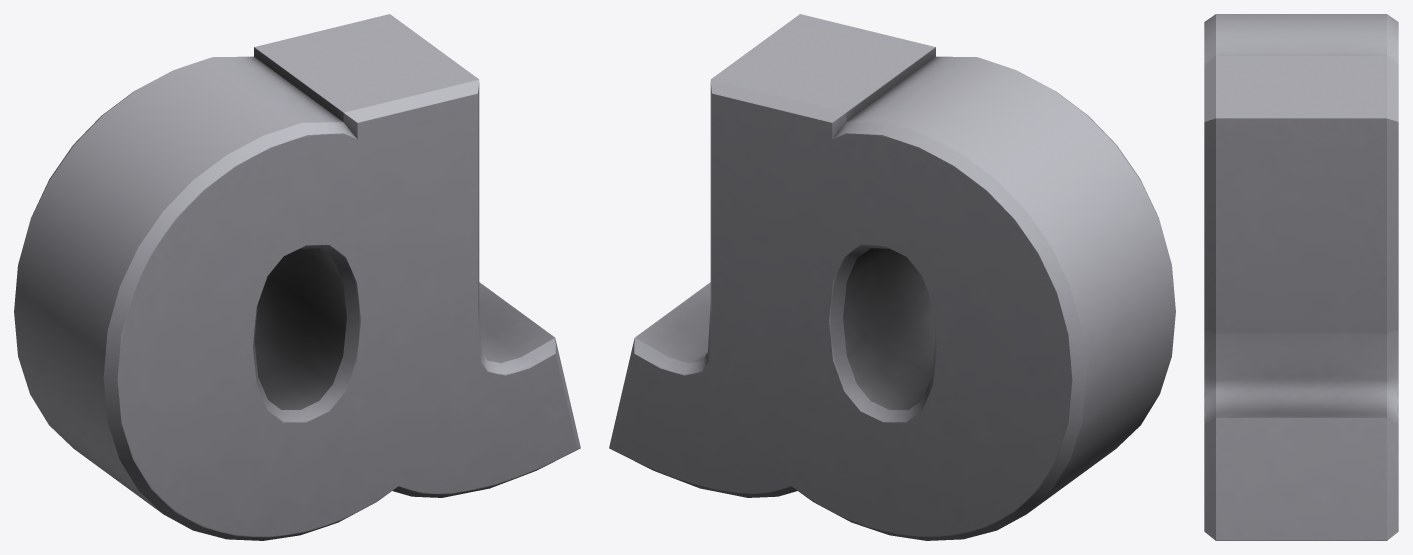
Rendered from a_lowc_static.fbx.
The picture shows the model from 3 angles, left to right: view 1: azimuth 30°, elevation 25°; view 2: azimuth 150°, elevation 25°; view 3: azimuth 270°, elevation 25°; orthographic projection. The views are drawn at different scales.
Parts seen in each view (by area): view 1: a_lowc_static; view 2: a_lowc_static; view 3: a_lowc_static.
Boxes of the visible parts, x1,y1,x2,y2 form: a_lowc_static: (14,14,580,540); a_lowc_static: (609,14,1175,540); a_lowc_static: (1204,14,1398,540).
Bounding box in the file's own units: 89.17 × 73.6 × 33.
